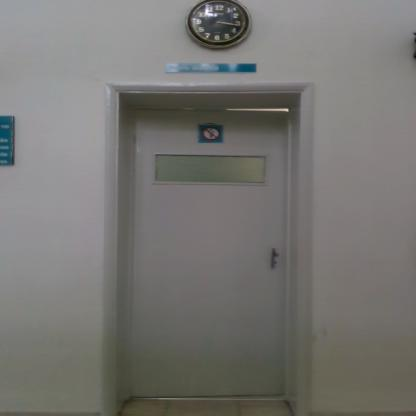door: (132, 105, 289, 398)
